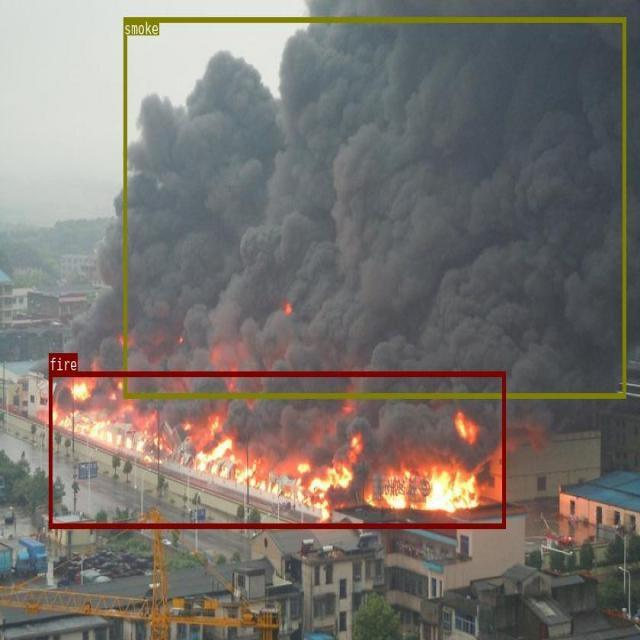fire: (49, 371, 505, 527)
smoke: (124, 16, 626, 398)
